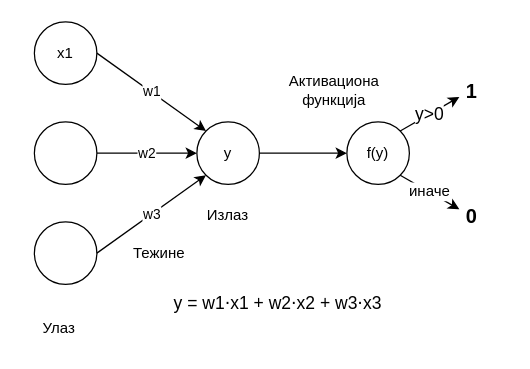
This 530x369 diagram has some shape labels left out. Each missing label, with the box of its shape:
x2: (33, 121, 97, 184)
x3: (33, 221, 97, 284)
